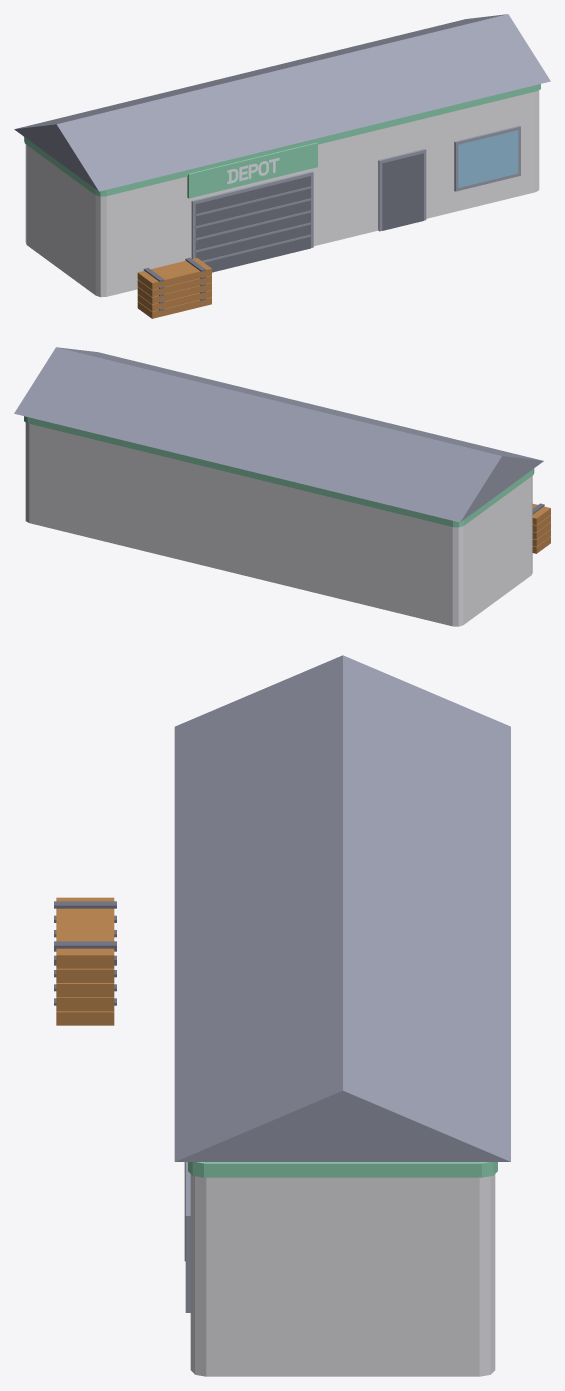
File: depot-2x1-t1-tone-a.glb
The picture shows the model from 3 angles, top to bottom: view 1: azimuth 30°, elevation 25°; view 2: azimuth 150°, elevation 25°; view 3: azimuth 270°, elevation 25°; orthographic projection. The views are drawn at different scales.
Visible parts, largest first — view 1: depot-2x1-t1-tone-a; view 2: depot-2x1-t1-tone-a; view 3: depot-2x1-t1-tone-a.
Part boxes in pixels (box(x1,y1,x2,y2)): depot-2x1-t1-tone-a: box(14, 14, 550, 318); depot-2x1-t1-tone-a: box(14, 347, 550, 626); depot-2x1-t1-tone-a: box(54, 655, 510, 1376).
Size of the model in its own units: 1.96 by 0.61 by 0.87.
Materials: 1 (1 with a texture image).
